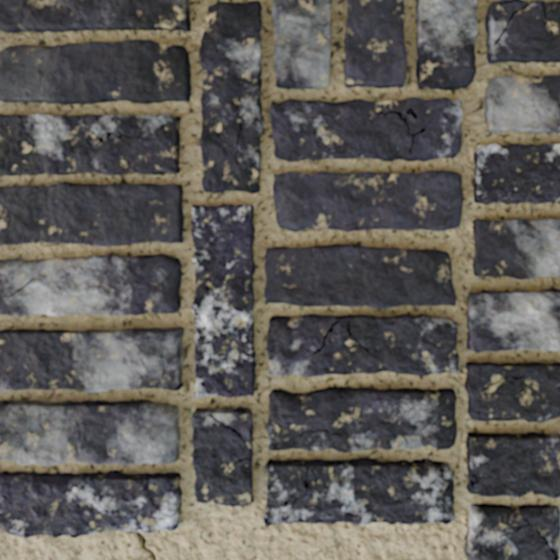brick: (264, 458, 454, 525), (192, 205, 255, 397), (199, 1, 262, 192), (267, 387, 455, 451), (0, 40, 190, 103), (265, 245, 455, 308), (0, 471, 181, 537), (270, 98, 462, 160), (0, 327, 183, 392), (267, 315, 458, 375), (0, 400, 179, 464), (273, 171, 462, 231), (0, 183, 182, 245), (0, 254, 180, 315), (0, 113, 179, 174), (466, 432, 559, 497), (0, 0, 189, 31), (192, 408, 252, 505), (467, 289, 559, 351), (465, 362, 559, 421), (416, 0, 476, 89), (344, 0, 405, 87), (464, 504, 559, 559), (473, 218, 559, 278), (473, 144, 559, 203), (272, 0, 330, 87), (486, 1, 559, 62), (485, 76, 559, 132)
crack: (207, 413, 252, 474), (498, 517, 558, 559), (493, 1, 533, 45), (129, 529, 157, 559), (541, 0, 554, 27), (155, 353, 165, 387), (469, 473, 480, 488), (0, 494, 12, 505), (496, 0, 520, 5), (174, 383, 181, 390), (248, 426, 252, 438), (0, 529, 5, 532)
